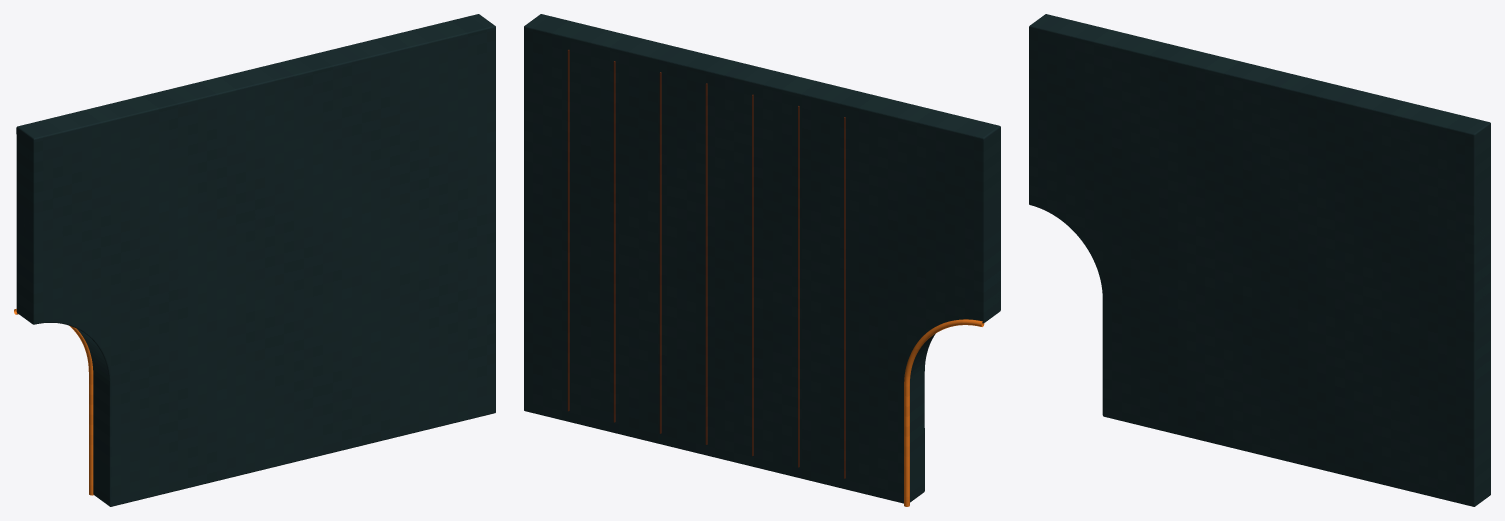
File: seam_right.gltf
3 renders of one model, left to right at view 1: azimuth 30°, elevation 25°; view 2: azimuth 150°, elevation 25°; view 3: azimuth 330°, elevation 25°, orthographic. The views are drawn at different scales.
Visible parts, largest first — view 1: V14_seam_right; view 2: V14_seam_right; view 3: V14_seam_right.
Part boxes in pixels (left/top/right/bottom): V14_seam_right: left=14, top=14, right=495, bottom=506; V14_seam_right: left=524, top=14, right=1000, bottom=506; V14_seam_right: left=1029, top=14, right=1490, bottom=506.
Size of the model in its own units: 10 by 8 by 0.7373.
3 materials, 3 textured.
